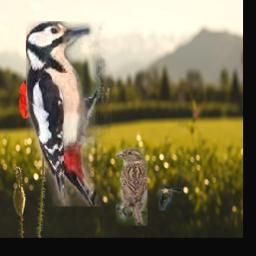Cuckoo: (158, 188, 182, 211)
Sparrow: (116, 147, 147, 226)
Woodpecker: (27, 22, 114, 207)
